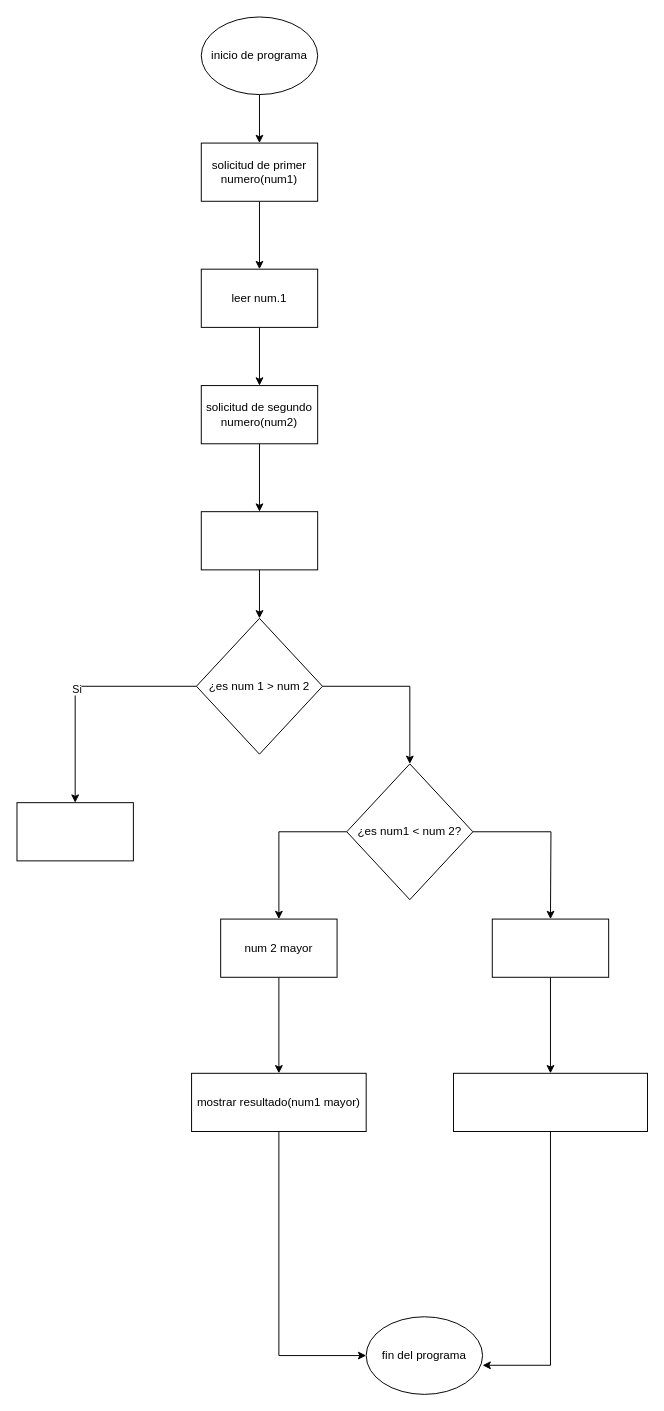
The diagram is 664 pixels wide and 1411 high, and some of its shapes have lost their labels. The shapes that lost their labels are listed below. From the top down, each one's centre as x and y in pixels, then its label:
At [259,540]: "leer num 2".
At [74,831]: "num 1 mayor".
At [550,947]: "son iguales".
At [550,1102]: "mostrar resultado (son iguales)".
